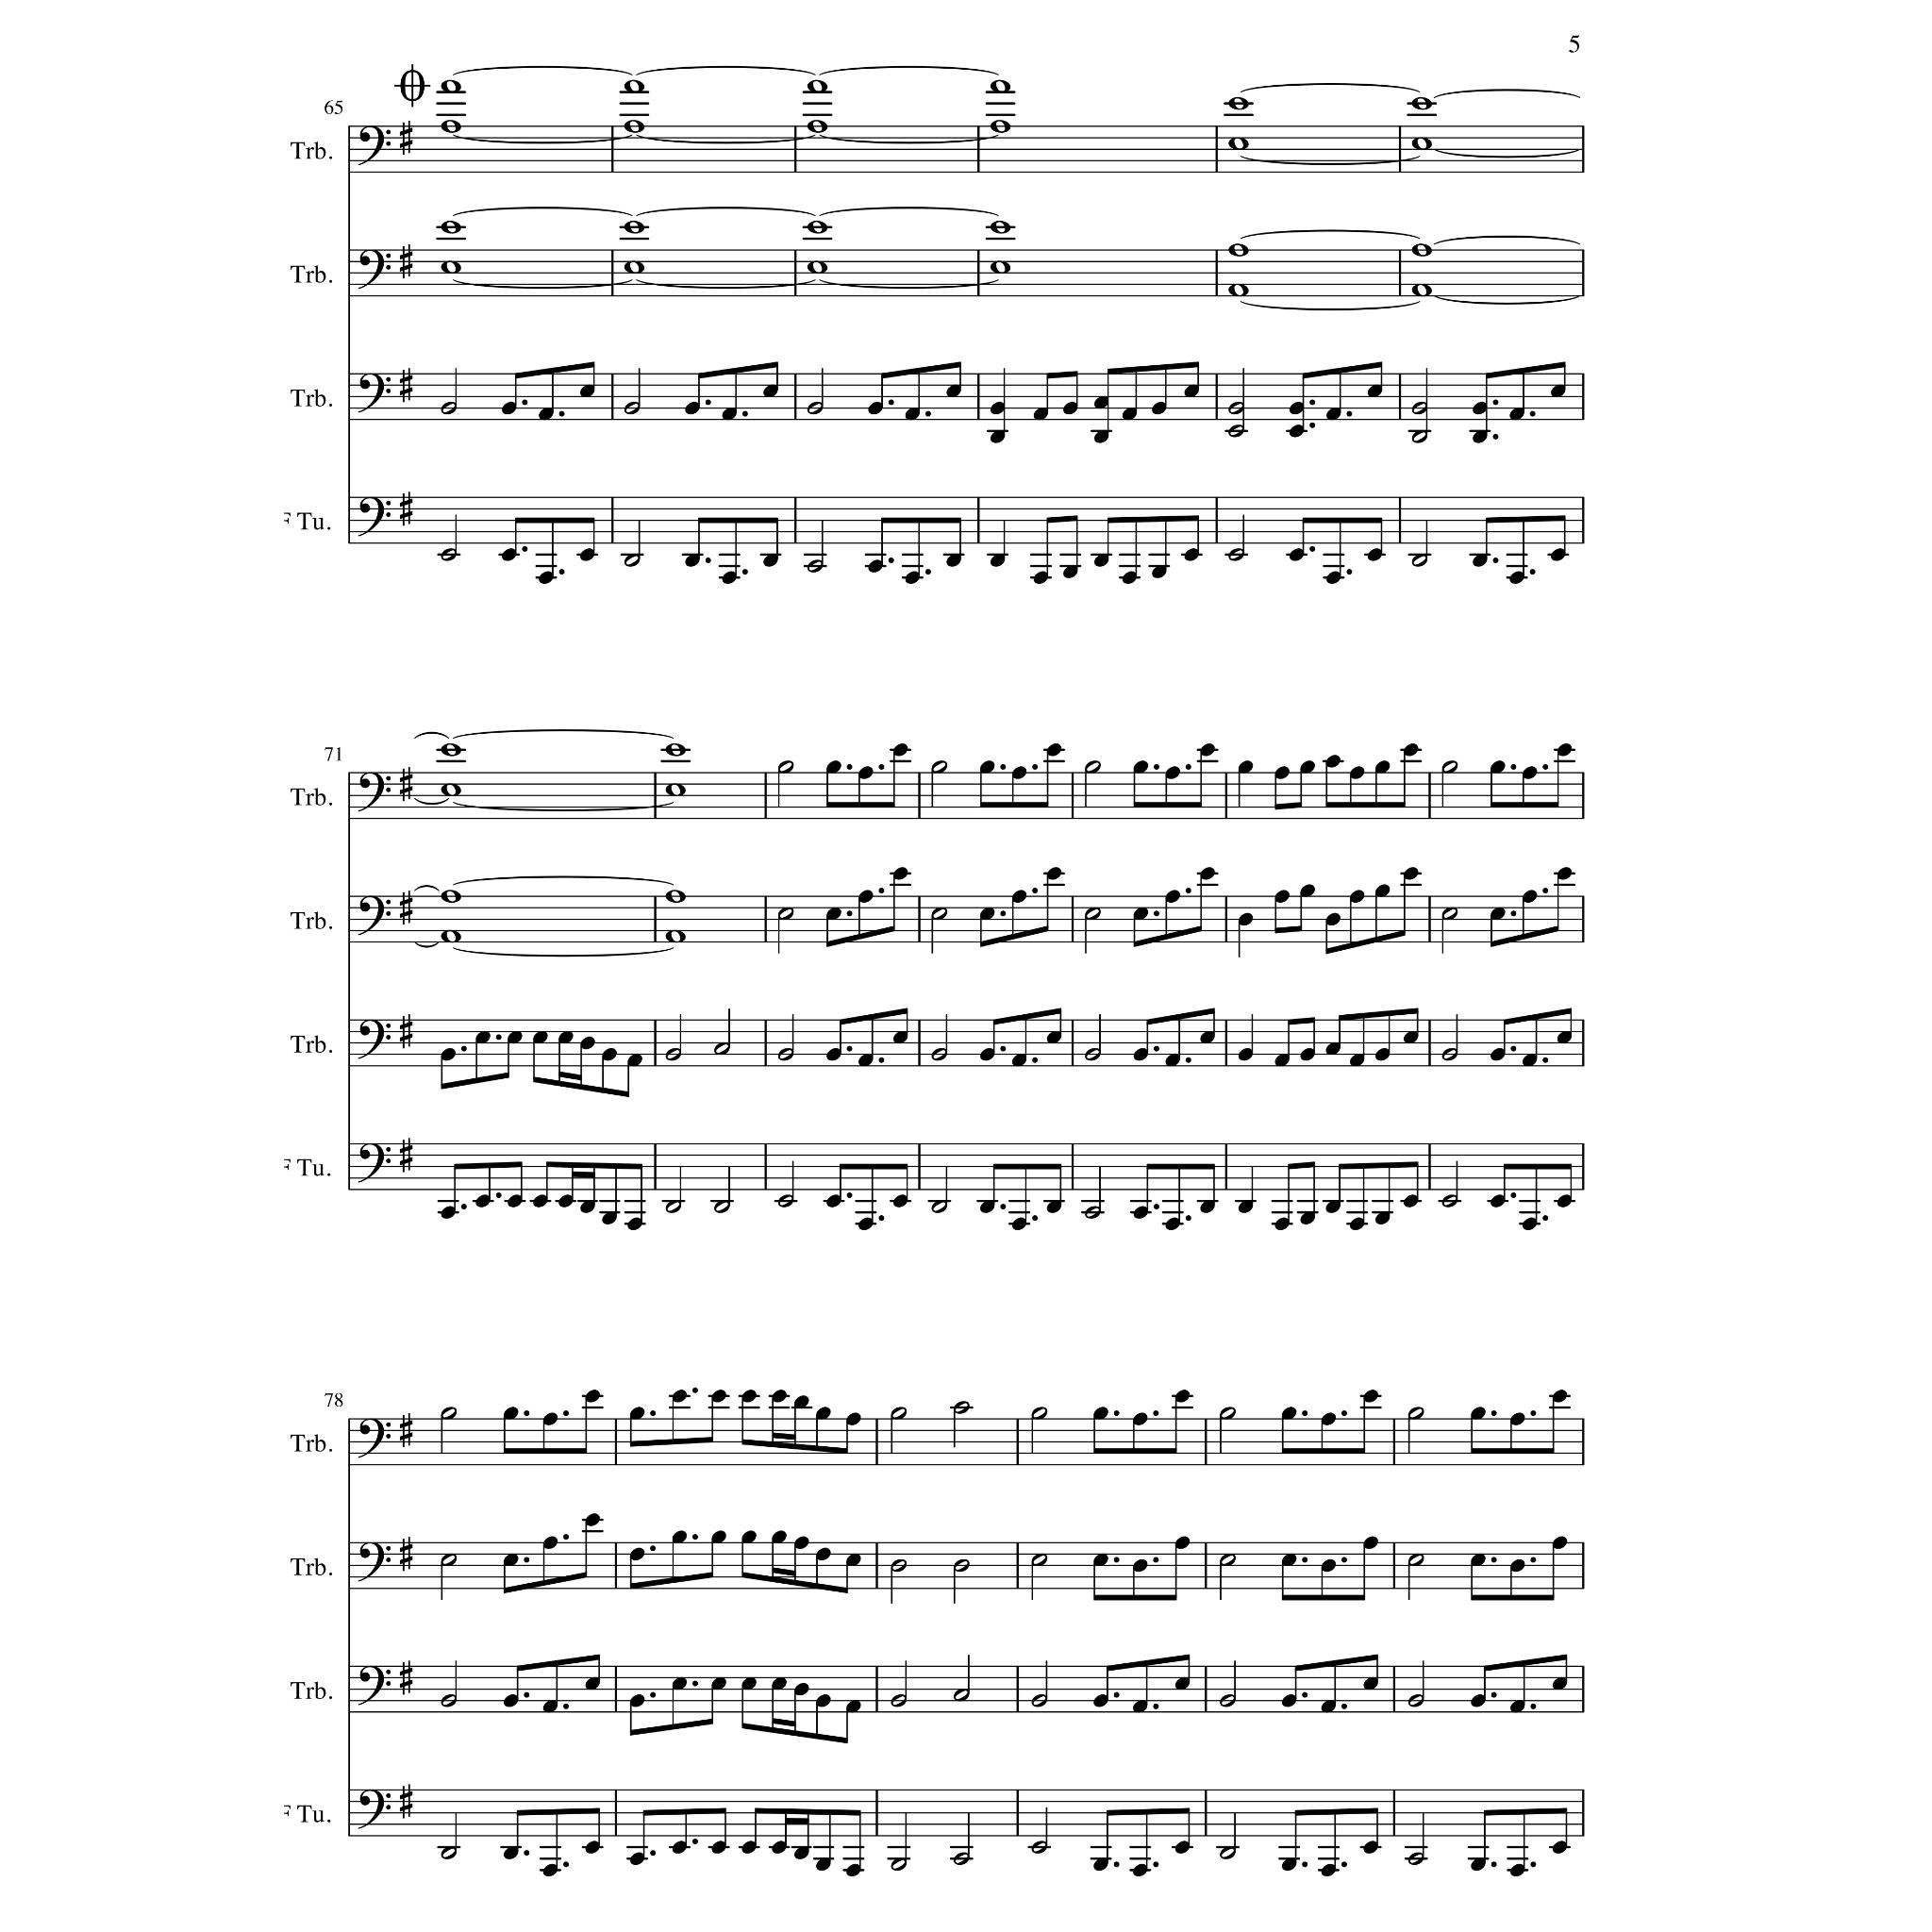fClef: (357, 126, 391, 166), (357, 248, 391, 288), (357, 372, 391, 412), (357, 497, 391, 538), (357, 771, 391, 812), (357, 895, 391, 936), (357, 1019, 391, 1060), (357, 1143, 391, 1184), (357, 1417, 391, 1458), (357, 1665, 391, 1706), (357, 1789, 391, 1829), (357, 1543, 391, 1582)
noteheadBlack: (1299, 1047, 1316, 1062), (474, 1030, 492, 1044), (1325, 407, 1341, 421), (1290, 548, 1306, 563), (1063, 564, 1079, 579), (1093, 395, 1109, 409), (1033, 407, 1049, 421), (1152, 564, 1168, 579), (1184, 548, 1200, 563), (1122, 407, 1138, 421), (1550, 548, 1566, 563), (1509, 407, 1525, 421), (1368, 548, 1384, 563), (579, 548, 594, 563), (501, 548, 517, 563), (538, 407, 554, 421), (867, 559, 883, 573), (904, 407, 920, 421), (722, 407, 738, 421), (1274, 1217, 1290, 1231), (1274, 766, 1290, 780), (1350, 766, 1366, 780), (1350, 1217, 1366, 1231), (1325, 1200, 1341, 1214), (1132, 1205, 1148, 1219), (1164, 766, 1180, 780), (1132, 906, 1148, 920), (1132, 1047, 1148, 1062), (1200, 1030, 1215, 1044), (1200, 1200, 1215, 1214), (1200, 743, 1215, 757), (1238, 1047, 1254, 1062), (1238, 1200, 1254, 1214), (1164, 1217, 1180, 1231), (1557, 743, 1573, 757), (1557, 1030, 1573, 1044), (1403, 743, 1419, 757), (1403, 1030, 1419, 1044), (1375, 1047, 1391, 1062), (1490, 906, 1506, 920), (1490, 1047, 1506, 1062), (626, 1217, 642, 1231), (826, 906, 842, 920), (826, 1047, 842, 1062), (441, 1047, 456, 1062), (441, 1205, 456, 1219), (580, 1200, 596, 1214), (602, 1047, 617, 1062), (533, 1030, 548, 1044), (508, 1030, 524, 1044), (557, 1030, 573, 1044), (1010, 766, 1026, 780), (1010, 1217, 1026, 1231), (980, 906, 996, 920), (980, 1047, 996, 1062), (980, 1200, 996, 1214), (1047, 743, 1063, 757), (1047, 1030, 1063, 1044), (1047, 1200, 1063, 1214), (892, 743, 908, 757), (892, 1030, 908, 1044), (858, 766, 874, 780), (858, 1217, 874, 1231), (1320, 1412, 1336, 1426), (1281, 1407, 1297, 1421), (1281, 1553, 1297, 1568), (1281, 1858, 1297, 1872), (1093, 1407, 1109, 1421), (1093, 1553, 1109, 1568), (1093, 1858, 1109, 1872), (1175, 1389, 1191, 1403), (1175, 1677, 1191, 1691), (1175, 1840, 1191, 1854), (1132, 1412, 1148, 1426), (1509, 1412, 1525, 1426), (1362, 1677, 1378, 1691), (1362, 1840, 1378, 1854), (1362, 1389, 1378, 1403), (1470, 1407, 1486, 1421), (1470, 1553, 1486, 1568), (1470, 1858, 1486, 1872), (628, 1407, 644, 1421), (628, 1548, 644, 1562), (584, 1389, 600, 1403), (584, 1513, 600, 1527), (584, 1677, 600, 1691), (584, 1840, 600, 1854), (671, 1677, 686, 1691), (671, 1840, 686, 1854), (671, 1389, 686, 1403), (502, 1407, 518, 1421), (502, 1553, 518, 1568), (541, 1412, 557, 1426), (846, 1412, 862, 1426), (846, 1553, 862, 1568), (814, 1548, 830, 1562), (814, 1858, 830, 1872), (814, 1407, 830, 1421), (741, 1389, 757, 1403), (741, 1677, 757, 1691), (741, 1840, 757, 1854), (771, 1389, 787, 1403), (711, 1389, 727, 1403), (711, 1677, 727, 1691), (711, 1840, 727, 1854), (794, 1683, 810, 1697), (771, 1677, 787, 1691), (771, 1840, 787, 1854), (1299, 885, 1316, 897), (1299, 1212, 1316, 1224), (1299, 761, 1316, 773), (474, 1194, 492, 1207), (1523, 766, 1537, 780), (1523, 1217, 1537, 1231), (1553, 1389, 1568, 1403), (1553, 1677, 1568, 1691), (1553, 1840, 1568, 1854), (1325, 571, 1341, 584), (1290, 425, 1306, 437), (1290, 402, 1306, 414), (1063, 402, 1079, 414), (1093, 430, 1109, 442), (1093, 554, 1109, 566), (1033, 571, 1049, 584), (1152, 402, 1168, 414), (1184, 384, 1200, 396), (1122, 571, 1138, 584), (1550, 384, 1566, 396), (1509, 571, 1525, 584), (1368, 384, 1384, 396), (1472, 430, 1488, 442), (1472, 402, 1488, 414), (1472, 554, 1488, 566), (579, 384, 594, 396), (685, 402, 701, 414), (685, 554, 701, 566), (501, 402, 517, 414), (538, 571, 554, 584), (904, 571, 920, 584), (947, 384, 962, 396), (947, 554, 962, 566), (867, 402, 883, 414), (989, 430, 1005, 442), (989, 402, 1005, 414), (989, 554, 1005, 566), (722, 571, 738, 584), (763, 384, 778, 396), (763, 554, 778, 566), (1274, 1054, 1290, 1067), (1274, 890, 1290, 902), (1350, 890, 1366, 902), (1350, 1054, 1366, 1067), (1325, 755, 1341, 768), (1325, 913, 1341, 925), (1325, 1042, 1341, 1054), (1164, 890, 1180, 902), (1164, 1054, 1180, 1067), (1132, 761, 1148, 773), (1200, 867, 1215, 879), (1238, 761, 1254, 773), (1238, 913, 1254, 925), (1557, 1194, 1573, 1207), (1557, 867, 1573, 879), (1403, 867, 1419, 879), (1403, 1194, 1419, 1207), (1375, 761, 1391, 773), (1375, 885, 1391, 897), (1375, 1212, 1391, 1224), (1490, 761, 1506, 773), (1490, 1194, 1506, 1207), (626, 1054, 642, 1067), (826, 761, 842, 773), (826, 1194, 842, 1207), (580, 1037, 596, 1049), (602, 1212, 617, 1224), (508, 1194, 524, 1207), (533, 1194, 548, 1207), (557, 1194, 573, 1207), (1010, 890, 1026, 902), (1010, 1054, 1026, 1067), (980, 761, 996, 773), (1047, 867, 1063, 879), (892, 867, 908, 879), (892, 1194, 908, 1207), (858, 890, 874, 902), (858, 1054, 874, 1067), (1320, 1559, 1336, 1571), (1320, 1700, 1336, 1713), (1320, 1865, 1336, 1877), (1281, 1695, 1297, 1707), (1093, 1695, 1109, 1707), (1175, 1537, 1191, 1550), (1132, 1559, 1148, 1571), (1132, 1700, 1148, 1713), (1132, 1865, 1148, 1877), (1509, 1700, 1525, 1713), (1509, 1559, 1525, 1571), (1509, 1865, 1525, 1877), (1362, 1537, 1378, 1550), (1470, 1695, 1486, 1707), (628, 1695, 644, 1707), (628, 1852, 644, 1865), (671, 1530, 686, 1543), (541, 1537, 557, 1550), (541, 1700, 557, 1713), (541, 1865, 557, 1877), (502, 1695, 518, 1707), (502, 1847, 518, 1859), (846, 1700, 862, 1713), (846, 1865, 862, 1877), (814, 1695, 830, 1707), (741, 1530, 757, 1543), (771, 1530, 787, 1543), (711, 1530, 727, 1543), (794, 1396, 810, 1408), (794, 1537, 810, 1550), (794, 1847, 810, 1859), (1523, 890, 1537, 902), (1523, 1054, 1537, 1067), (1553, 1537, 1568, 1550)
noteheadHalf: (713, 1200, 731, 1214), (665, 1047, 683, 1062), (665, 1200, 683, 1214), (777, 906, 794, 920), (777, 1047, 794, 1062), (931, 906, 948, 920), (931, 1047, 948, 1062), (931, 1200, 948, 1214), (439, 1407, 456, 1421), (439, 1553, 456, 1568), (890, 1407, 908, 1421), (890, 1858, 908, 1872), (807, 559, 823, 573), (1442, 906, 1458, 920), (1442, 1047, 1458, 1062), (1085, 906, 1100, 920), (1085, 1047, 1100, 1062), (1085, 1205, 1100, 1219), (1219, 1407, 1235, 1421), (1219, 1553, 1235, 1568), (1031, 1407, 1047, 1421), (1031, 1553, 1047, 1568), (1031, 1840, 1047, 1854), (1408, 1407, 1424, 1421), (1408, 1553, 1424, 1568), (954, 1688, 970, 1702), (623, 402, 640, 414), (623, 554, 640, 566), (439, 402, 456, 414), (439, 548, 456, 561), (713, 1042, 731, 1054), (777, 761, 794, 773), (777, 1194, 794, 1207), (931, 761, 948, 773), (439, 1695, 456, 1707), (439, 1847, 456, 1859), (890, 1559, 908, 1571), (890, 1695, 908, 1707), (1228, 402, 1244, 414), (1228, 425, 1244, 437), (1228, 548, 1244, 561), (1412, 430, 1428, 442), (1412, 402, 1428, 414), (1412, 554, 1428, 566), (807, 402, 823, 414), (1442, 761, 1458, 773), (1442, 1194, 1458, 1207), (1085, 761, 1100, 773), (1219, 1695, 1235, 1707), (1219, 1847, 1235, 1859), (1031, 1695, 1047, 1707), (1408, 1695, 1424, 1707), (1408, 1852, 1424, 1865), (954, 1852, 970, 1865), (954, 1401, 970, 1414), (954, 1559, 970, 1571)
noteheadWhole: (1228, 136, 1249, 150), (1228, 96, 1249, 110), (623, 119, 644, 133), (623, 80, 644, 94), (623, 260, 644, 274), (623, 221, 644, 235), (441, 119, 462, 133), (441, 80, 462, 94), (441, 260, 462, 274), (441, 221, 462, 235), (989, 221, 1010, 235), (989, 119, 1010, 133), (989, 80, 1010, 94), (989, 260, 1010, 274), (807, 260, 828, 274), (807, 119, 828, 133), (807, 80, 828, 94), (807, 221, 828, 235), (665, 782, 686, 796), (665, 743, 686, 757), (665, 929, 686, 943), (665, 890, 686, 904), (441, 782, 462, 796), (441, 743, 462, 757), (441, 929, 462, 943), (441, 890, 462, 904), (1412, 136, 1431, 150), (1412, 96, 1431, 110), (1228, 283, 1249, 295), (1228, 244, 1249, 257), (1412, 283, 1431, 295), (1412, 244, 1431, 257)
